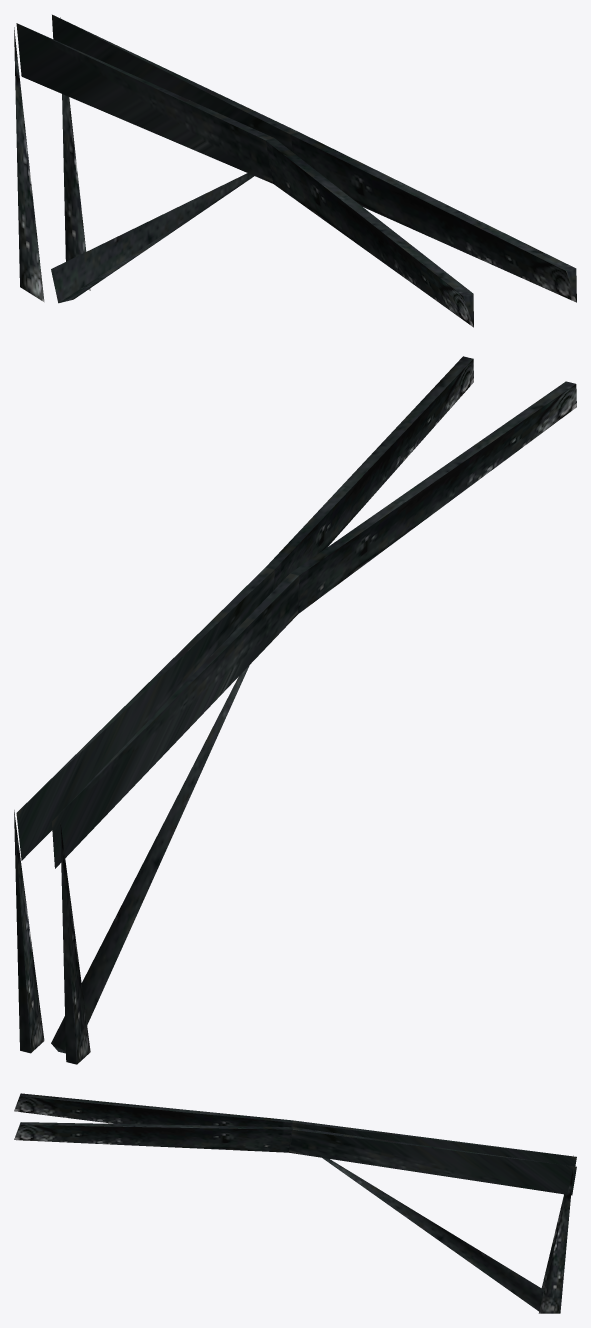
Rendered from wp_carbine_e11_stock_open_l3.fbx.
3 renders of one model, top to bottom at view 1: azimuth 30°, elevation 25°; view 2: azimuth 150°, elevation 25°; view 3: azimuth 270°, elevation 25°, orthographic. The views are drawn at different scales.
Parts seen in each view (by area): view 1: mesh_node; view 2: mesh_node; view 3: mesh_node.
Boxes of the visible parts, <box> form: mesh_node: <box>14,14,576,327</box>; mesh_node: <box>14,356,576,1064</box>; mesh_node: <box>14,1093,576,1313</box>.
Bounding box in the file's own units: 0.0452 × 0.134 × 0.3398.
Materials: 1 (1 with a texture image).
